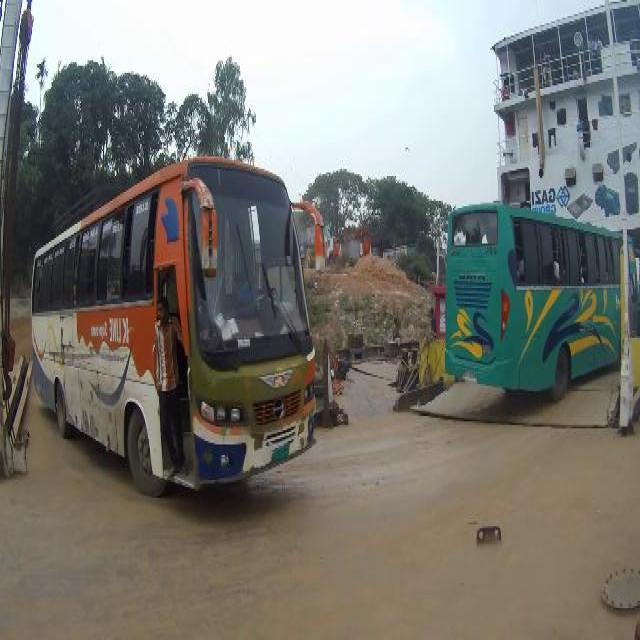Bus: (32, 157, 331, 494), (441, 202, 616, 412)
